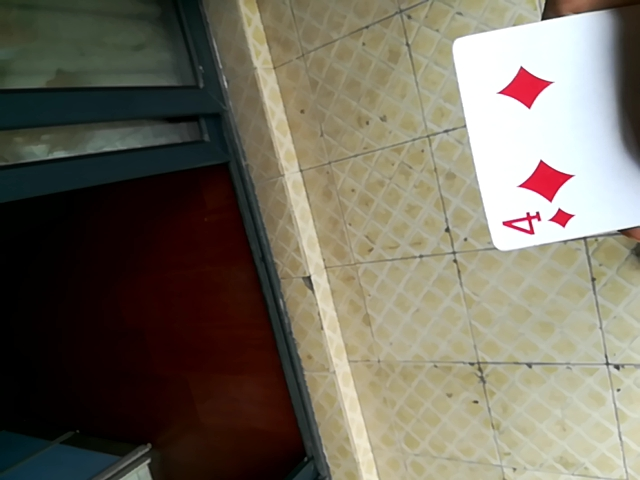fk 4: (441, 5, 640, 254)
